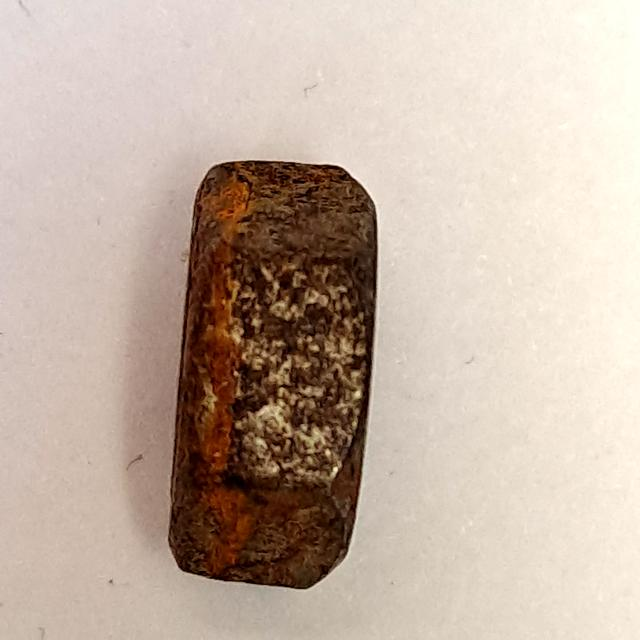Side_Rust: (145, 149, 391, 604)
